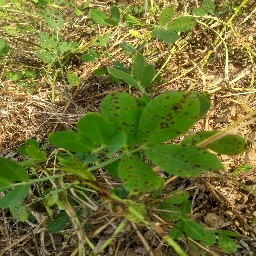GroundNut_Leaf: (136, 90, 200, 145), (149, 149, 225, 177), (100, 91, 135, 149), (46, 130, 95, 153), (158, 191, 189, 221), (1, 158, 30, 182), (90, 6, 120, 28), (46, 211, 70, 234), (182, 220, 207, 240), (168, 17, 195, 32), (142, 64, 155, 85)
